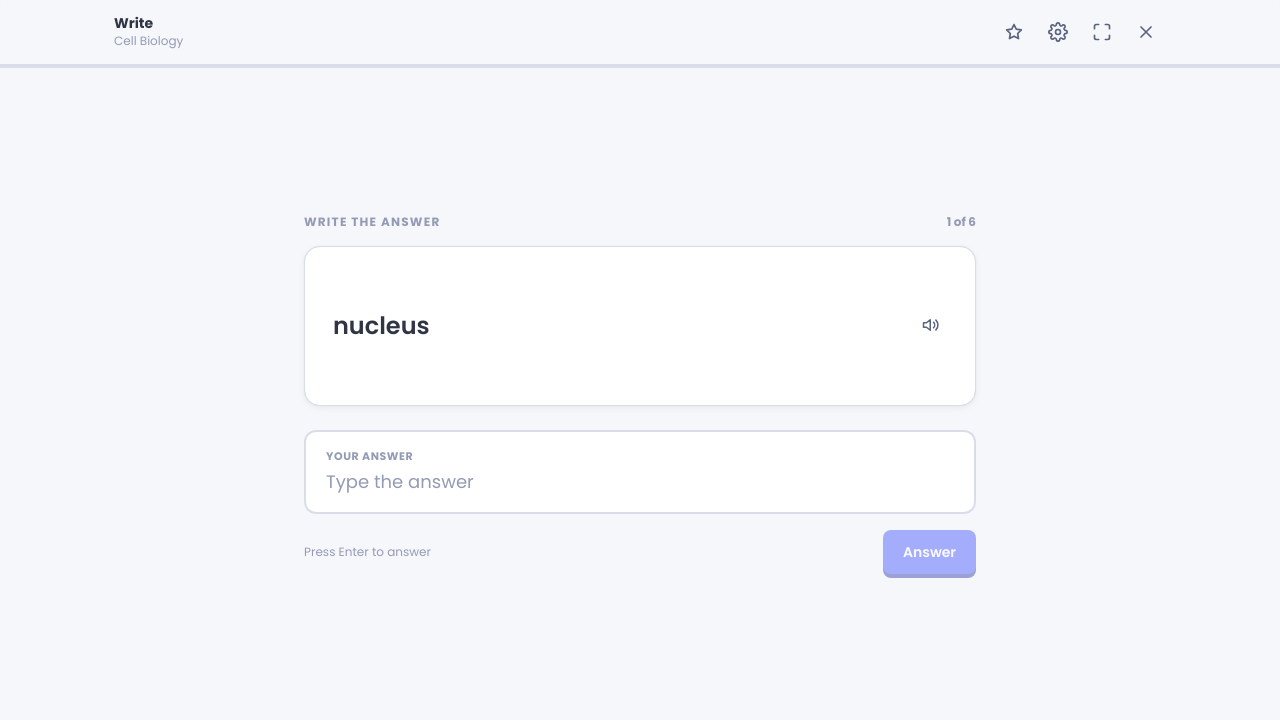
Test: Write › skips the retype step when the setting is off
Type "nonsense" into the field named "your answer" at {"x": 640, "y": 482}, box [326,468,954,496]
Then press Enter
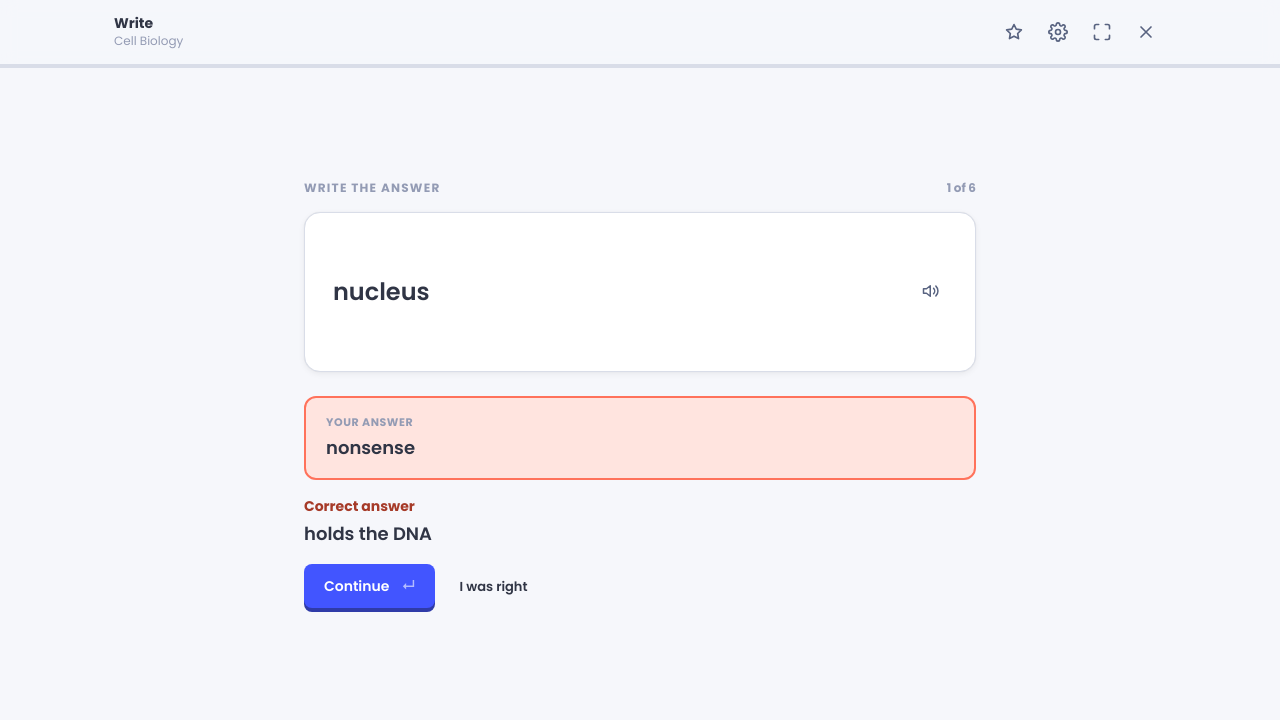
Click the button "Continue ↵" at {"x": 370, "y": 586}, box [304,564,436,608]
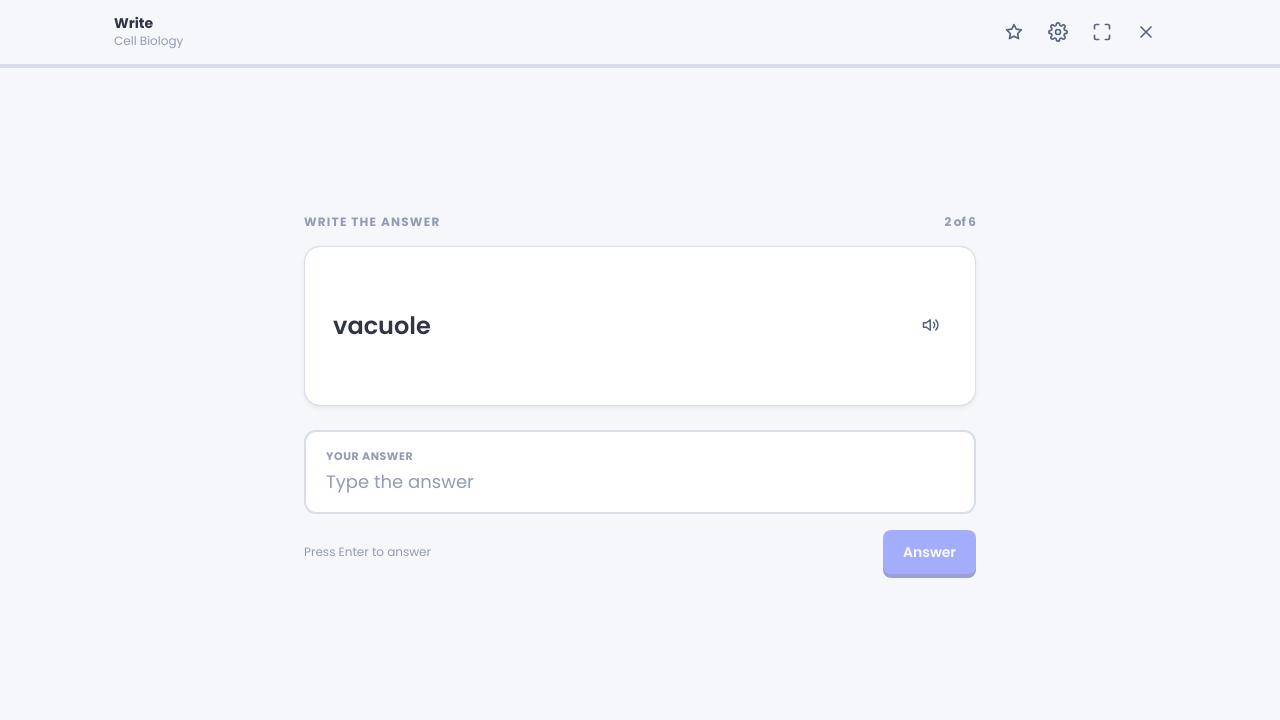
Expected: the text "2 of 6" is shown, [944,214,976,230]
